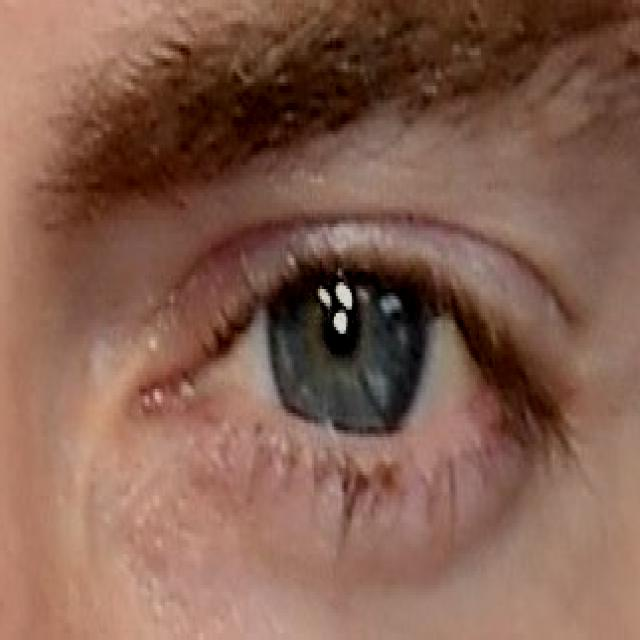Normal: (77, 213, 590, 520)
